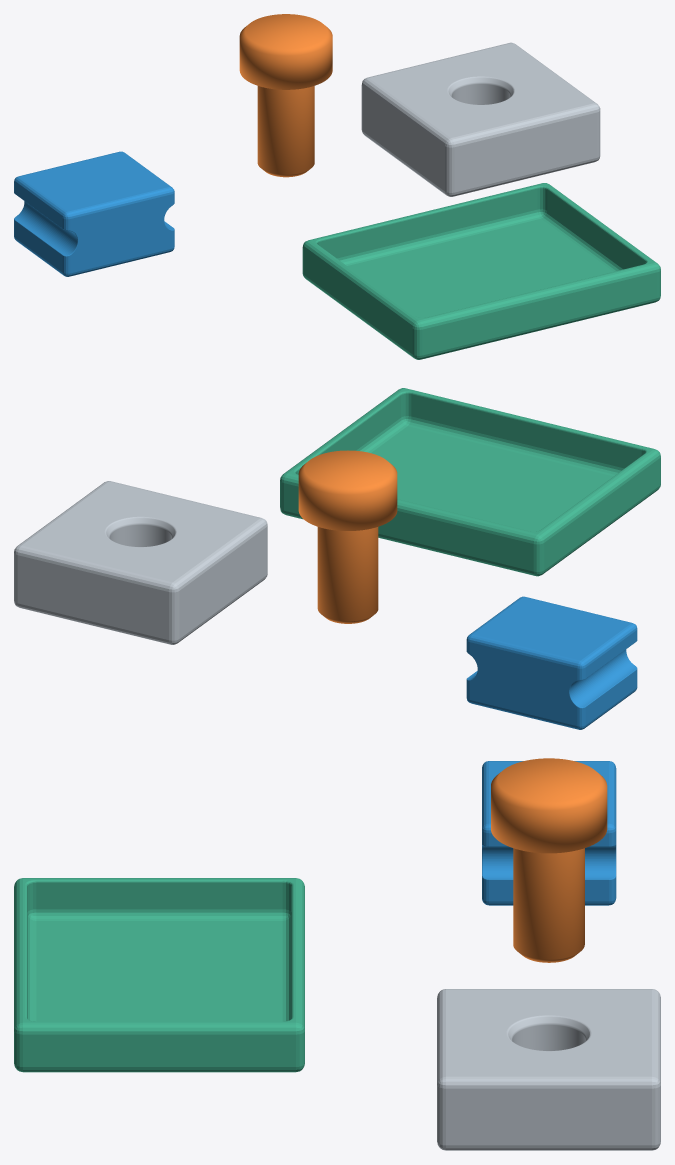
Rendered from pla_grasp_kit.glb.
3 views of the same model, one above another, from view 1: azimuth 30°, elevation 25°; view 2: azimuth 150°, elevation 25°; view 3: azimuth 270°, elevation 25° (orthographic). The views are drawn at different scales.
Visible parts, largest first — view 1: 04_低边分拣托盘, 03_盲孔插装底座, 01_带指槽抓取块, 02_带头导向圆柱销; view 2: 04_低边分拣托盘, 03_盲孔插装底座, 01_带指槽抓取块, 02_带头导向圆柱销; view 3: 04_低边分拣托盘, 03_盲孔插装底座, 02_带头导向圆柱销, 01_带指槽抓取块.
Boxes of the visible parts, x1,y1,x2,y2 form: 04_低边分拣托盘: [302, 183, 660, 359]; 03_盲孔插装底座: [361, 42, 600, 196]; 01_带指槽抓取块: [14, 151, 174, 276]; 02_带头导向圆柱销: [239, 14, 332, 177]; 04_低边分拣托盘: [280, 388, 660, 576]; 03_盲孔插装底座: [14, 481, 267, 644]; 01_带指槽抓取块: [466, 596, 637, 729]; 02_带头导向圆柱销: [298, 450, 397, 623]; 04_低边分拣托盘: [14, 878, 304, 1072]; 03_盲孔插装底座: [437, 989, 660, 1150]; 02_带头导向圆柱销: [491, 758, 607, 962]; 01_带指槽抓取块: [482, 761, 616, 905].
Size of the model in its own units: 0.168 by 0.052 by 0.1445.
